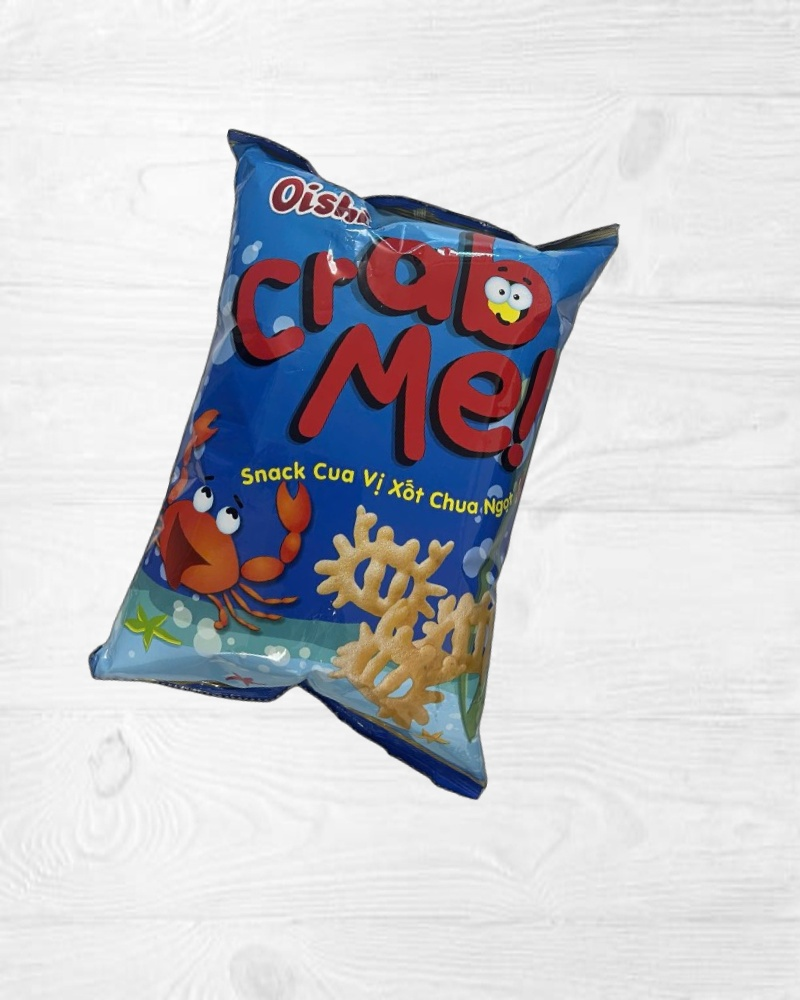Snack chay: (78, 122, 635, 804)
